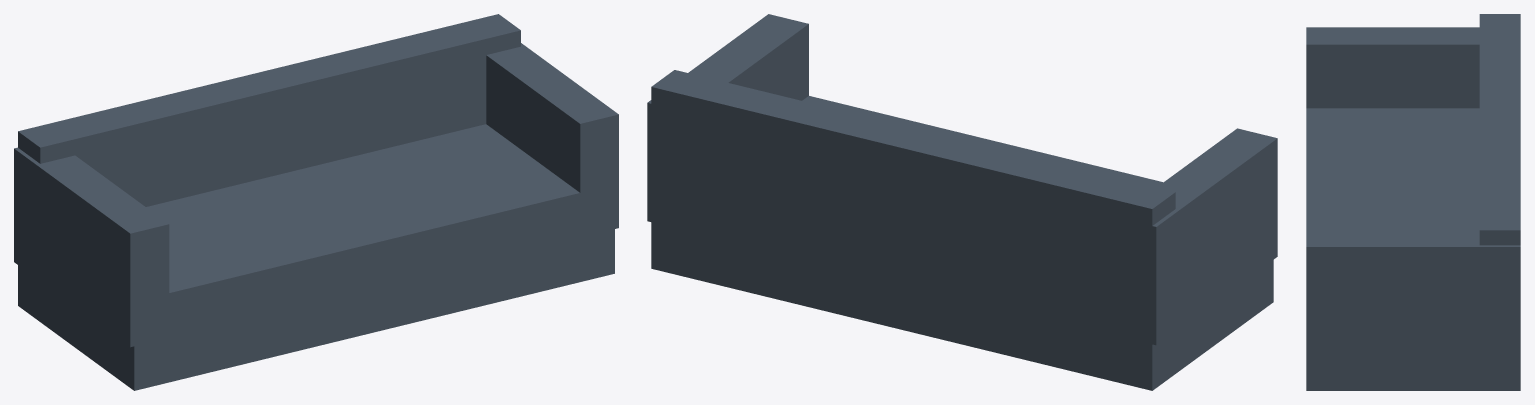
File: Prop_Sofa.obj
3 views of the same model, side by side, from view 1: azimuth 30°, elevation 25°; view 2: azimuth 150°, elevation 25°; view 3: azimuth 270°, elevation 25° (orthographic). The views are drawn at different scales.
Visible parts, largest first — view 1: tela; view 2: tela; view 3: tela.
Part boxes in pixels (x1=…): tela: x1=14, y1=14, x2=618, y2=390; tela: x1=647, y1=14, x2=1277, y2=390; tela: x1=1306, y1=14, x2=1520, y2=390.
Bounding box in the file's own units: 0.63 × 0.215 × 0.26.
